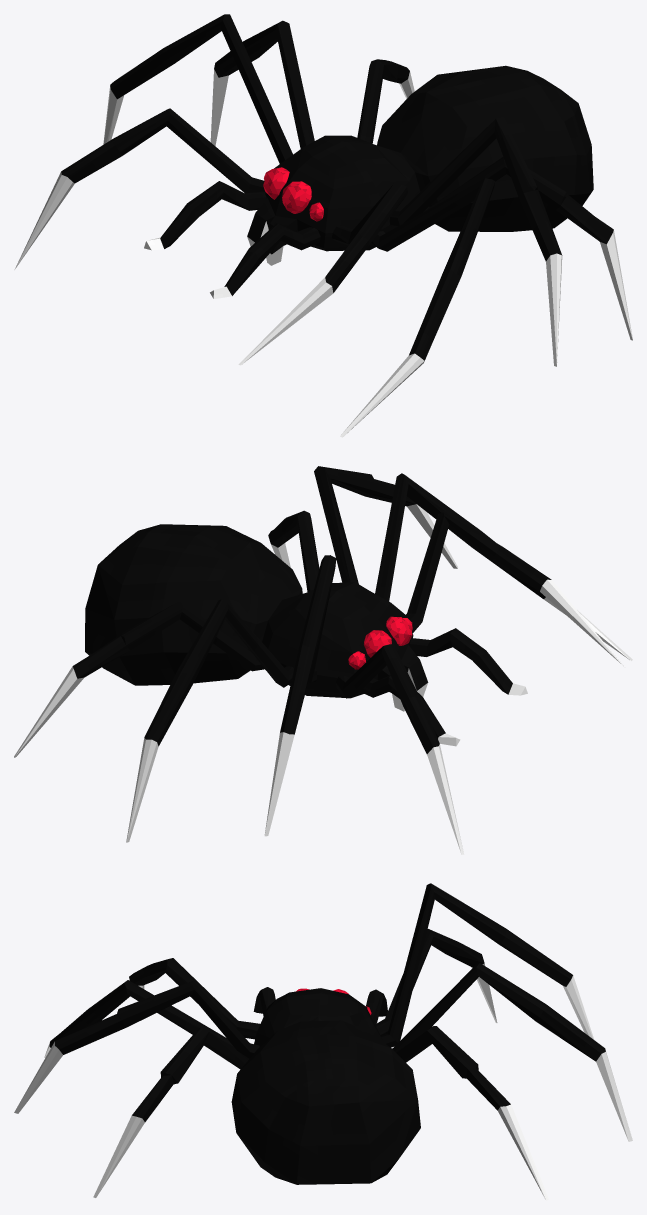
File: spiderWalking9.obj
3 views of the same model, one above another, from view 1: azimuth 30°, elevation 25°; view 2: azimuth 150°, elevation 25°; view 3: azimuth 270°, elevation 25° (orthographic). The views are drawn at different scales.
Visible parts, largest first — view 1: Cube.001_Cube.002; view 2: Cube.001_Cube.002; view 3: Cube.001_Cube.002.
Part boxes in pixels (x1,y1,x2,y2): Cube.001_Cube.002: (14, 14, 632, 437); Cube.001_Cube.002: (14, 466, 632, 854); Cube.001_Cube.002: (14, 883, 632, 1200).
Bounding box in the file's own units: 26.75 × 13.24 × 34.08.
